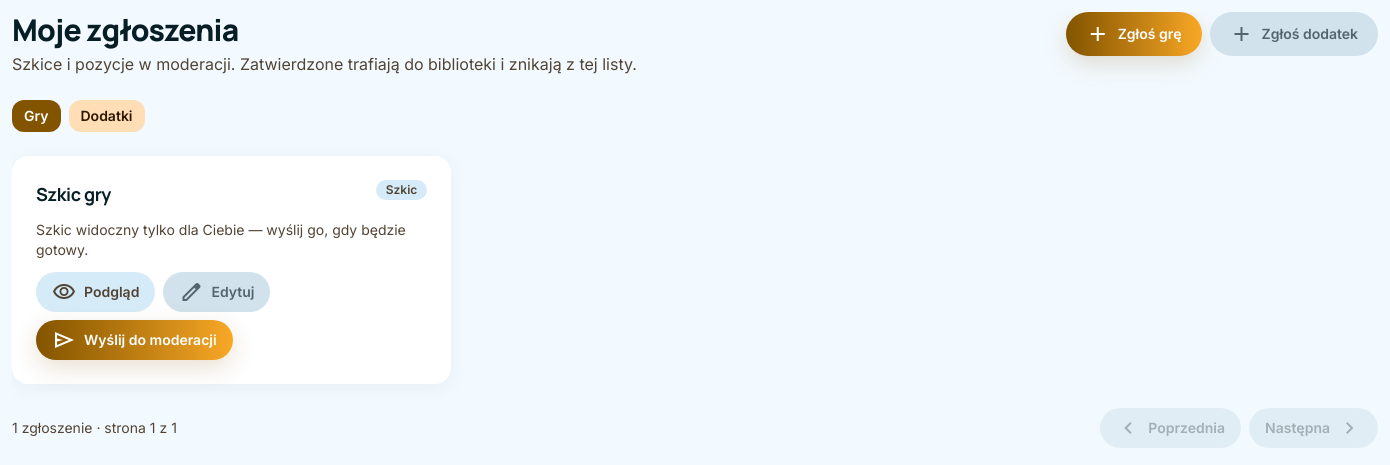
MySubmissionsPage › wysyłka zmienia status na liście bez ponownego pobrania strony
Expected: the heading "Szkic gry" is shown, [36,180,111,208]
Click the button "Wyślij do moderacji": (134, 340) [36,320,233,360]
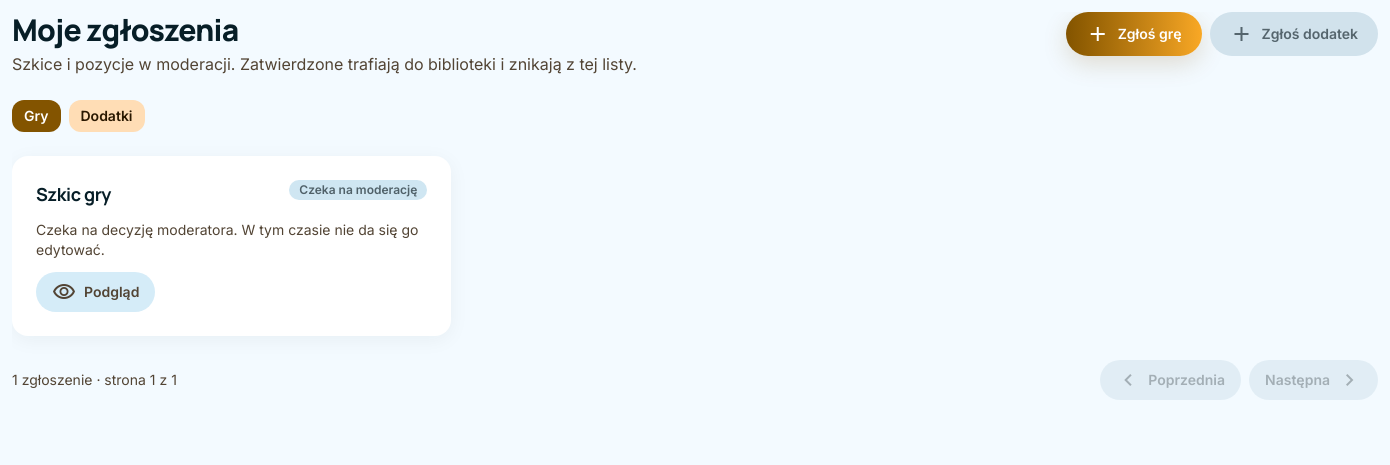
Now the text "Czeka na moderację" is shown, box [289,180,427,200]
Now the button "Wyślij do moderacji" is gone
